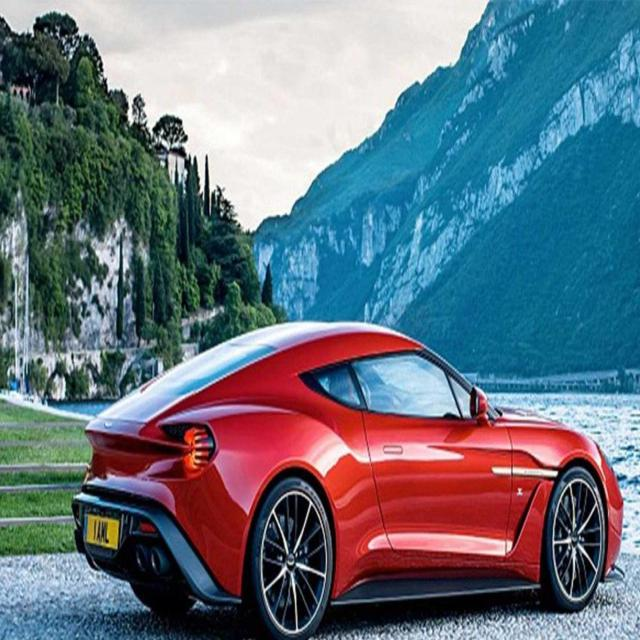cars16: (70, 318, 625, 636)
